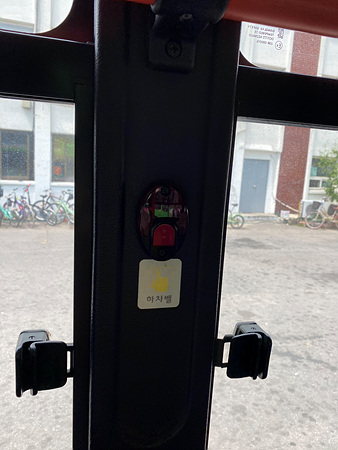bell: (140, 184, 188, 260)
